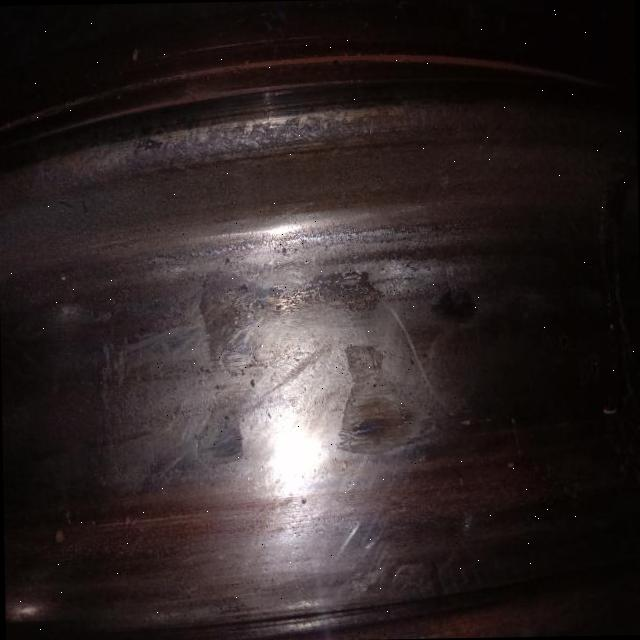flat: (121, 249, 507, 488)
